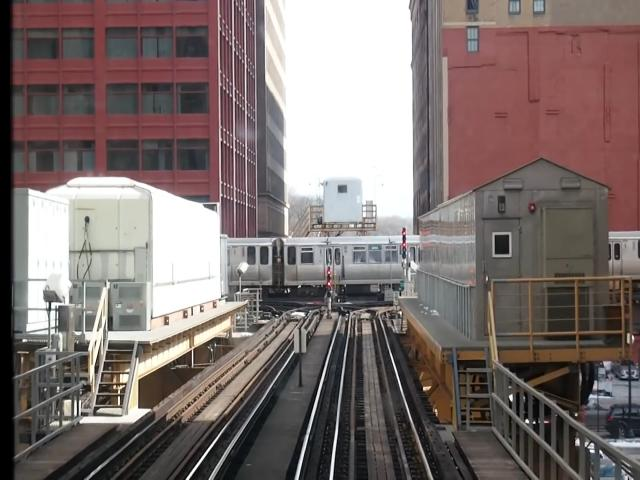signal light: (327, 266, 335, 301), (402, 227, 409, 263)
